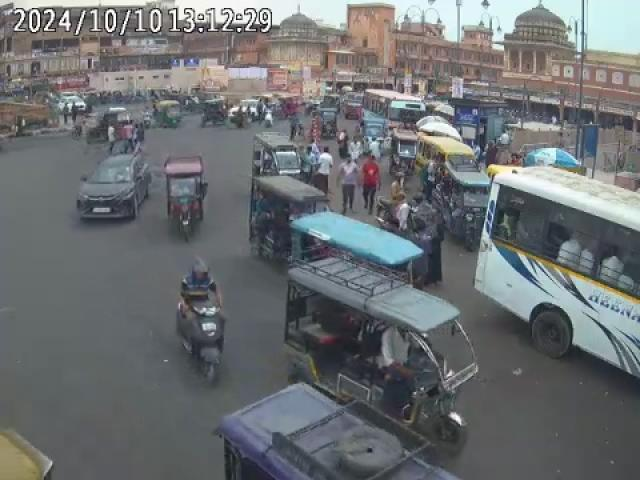auto: (286, 257, 475, 457), (212, 384, 466, 480), (290, 210, 429, 288), (249, 172, 336, 266), (442, 156, 490, 234), (165, 154, 204, 240), (252, 131, 303, 180)
bus: (476, 164, 640, 376), (364, 88, 428, 135)
car: (78, 152, 152, 224)
person: (600, 253, 624, 287)
scooty-rider: (174, 260, 227, 387)
